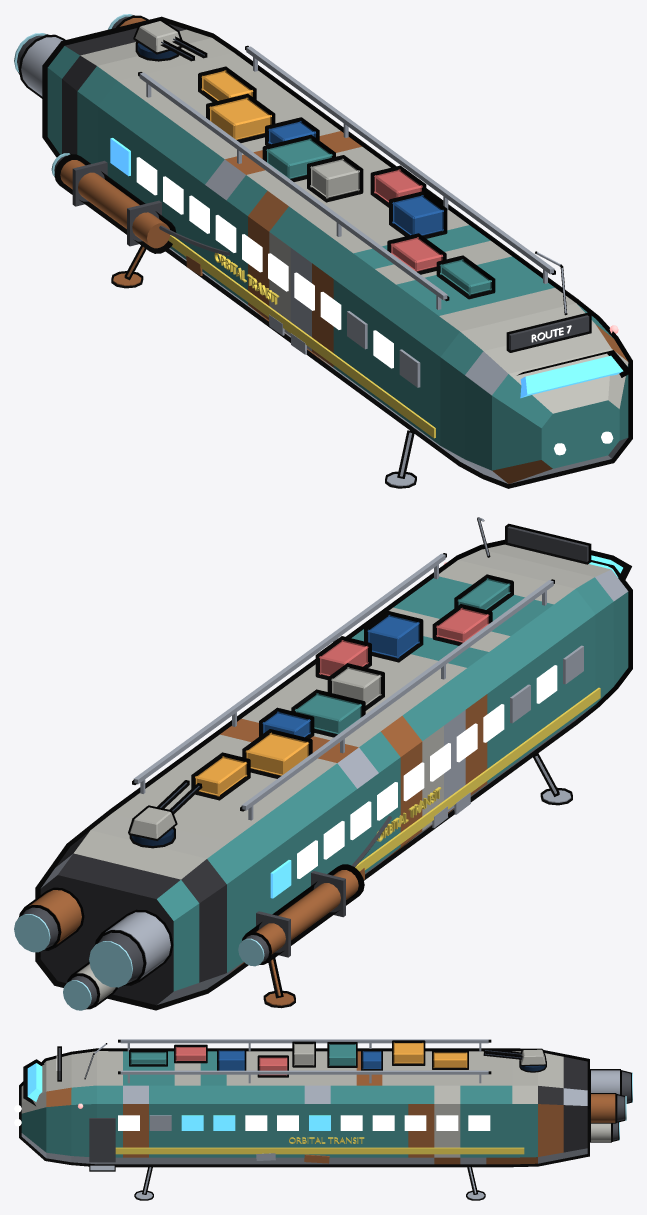
The model's file is Shuttle_Bus.fbx.
3 renders of one model, top to bottom at view 1: azimuth 30°, elevation 25°; view 2: azimuth 150°, elevation 25°; view 3: azimuth 270°, elevation 25°, orthographic. The views are drawn at different scales.
Parts seen in each view (by area): view 1: Hull.003, Luggage, Booster_Body, Stripe-1.001, Rail-1, Rail1, Windshield, Sign, Eng1_Body, Gun_House.001, LiveryL, BoostStrap9.0 (+1 smaller); view 2: Hull.003, Luggage, Booster_Body, Rail-1, Rail1, Stripe-1.001, Eng1_Body, Sign, Eng1_Glow, Eng2_Body, Gun_House.001, Eng2_Glow (+3 smaller); view 3: Hull.003, Luggage, Stripe1.001, Rail1, Rail-1, Door, Eng2_Body, Windshield, Eng1_Body, Gun_House.001, Eng3_Body, Win1_1.001 (+14 smaller).
Part boxes in pixels (bbox=[...]): Hull.003: bbox=[42, 16, 632, 488]; Luggage: bbox=[198, 66, 495, 299]; Booster_Body: bbox=[54, 154, 176, 253]; Stripe-1.001: bbox=[168, 235, 435, 438]; Rail-1: bbox=[138, 72, 449, 301]; Rail1: bbox=[245, 45, 555, 274]; Windshield: bbox=[517, 350, 632, 398]; Sign: bbox=[506, 312, 591, 352]; Eng1_Body: bbox=[18, 34, 65, 98]; Gun_House.001: bbox=[133, 19, 182, 54]; LiveryL: bbox=[214, 253, 279, 304]; BoostStrap9.0: bbox=[72, 160, 107, 206]; Hull.003: bbox=[35, 539, 632, 1010]; Luggage: bbox=[191, 574, 513, 800]; Booster_Body: bbox=[242, 864, 364, 964]; Rail-1: bbox=[240, 579, 554, 811]; Rail1: bbox=[132, 553, 446, 784]; Stripe-1.001: bbox=[355, 687, 600, 871]; Eng1_Body: bbox=[95, 909, 173, 985]; Sign: bbox=[505, 523, 591, 564]; Eng1_Glow: bbox=[89, 941, 132, 987]; Eng2_Body: bbox=[19, 887, 84, 950]; Gun_House.001: bbox=[128, 805, 177, 840]; Eng2_Glow: bbox=[14, 914, 50, 952]; Hull.003: bbox=[19, 1048, 589, 1167]; Luggage: bbox=[129, 1040, 468, 1077]; Stripe1.001: bbox=[115, 1147, 524, 1154]; Rail1: bbox=[118, 1070, 491, 1074]; Rail-1: bbox=[118, 1039, 491, 1043]; Door: bbox=[89, 1118, 115, 1162]; Eng2_Body: bbox=[590, 1093, 616, 1123]; Windshield: bbox=[23, 1059, 44, 1105]; Eng1_Body: bbox=[590, 1069, 620, 1094]; Gun_House.001: bbox=[519, 1048, 546, 1066]; Eng3_Body: bbox=[590, 1123, 611, 1142]; Win1_1.001: bbox=[149, 1115, 171, 1130].
Bounding box in the file's own units: 6.8 × 6.93 × 28.18.
